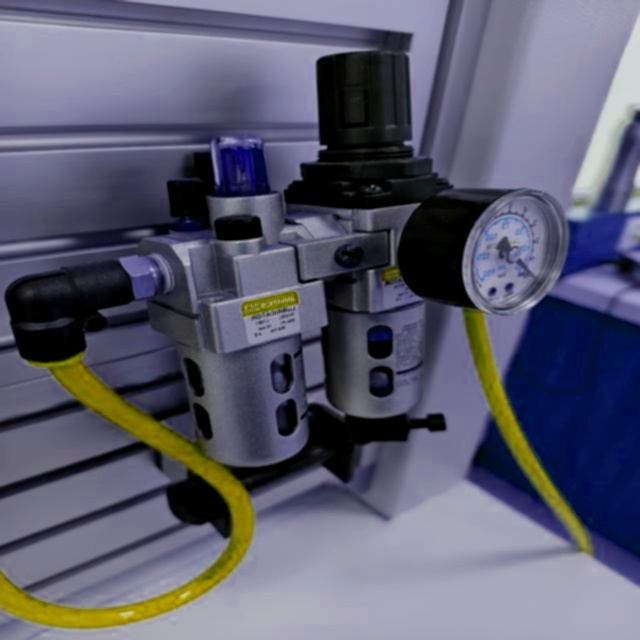FRL unit: (36, 38, 573, 549)
